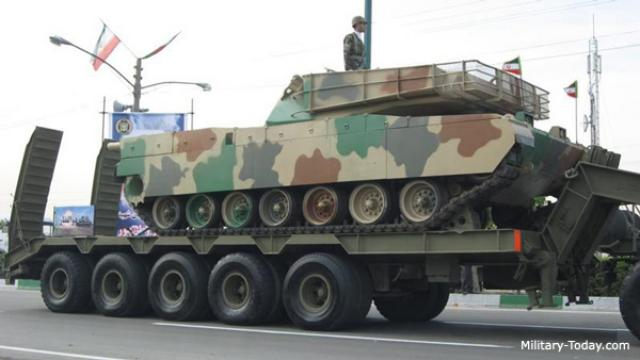other: (344, 15, 368, 67)
tank: (124, 65, 546, 224)
